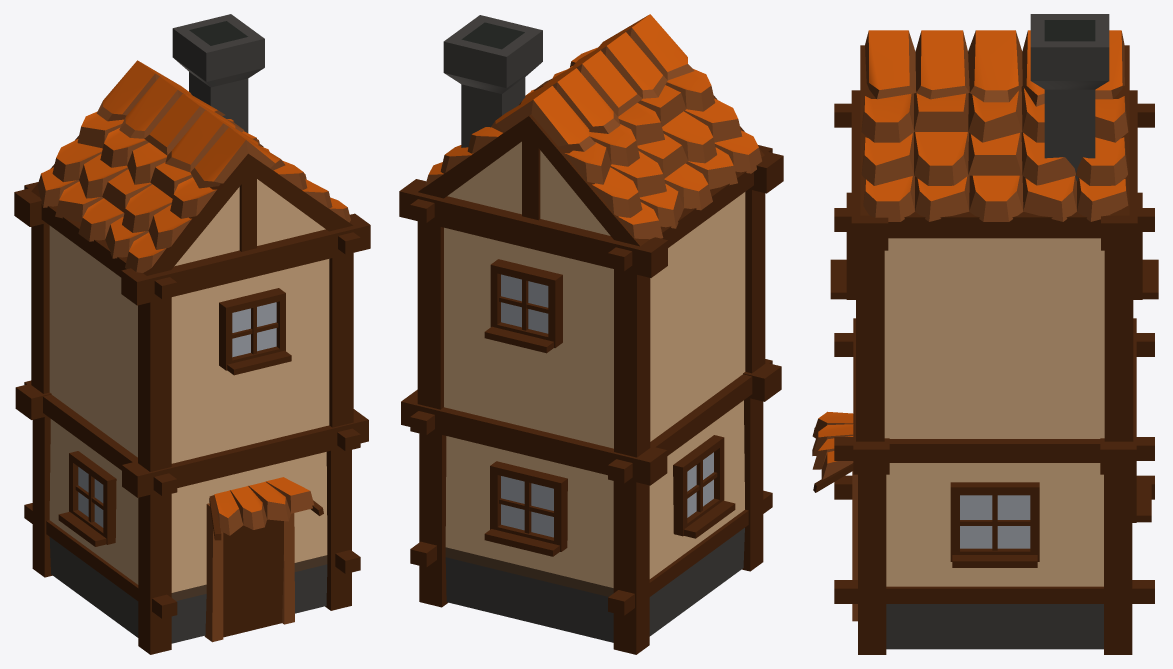
Rendered from SM_House_T2.fbx.
The picture shows the model from 3 angles, left to right: view 1: azimuth 30°, elevation 25°; view 2: azimuth 150°, elevation 25°; view 3: azimuth 270°, elevation 25°; orthographic projection. The views are drawn at different scales.
Visible parts, largest first — view 1: SM_House_T2; view 2: SM_House_T2; view 3: SM_House_T2.
Boxes of the visible parts, x1=… form: SM_House_T2: x1=14, y1=14, x2=370, y2=654; SM_House_T2: x1=399, y1=14, x2=783, y2=654; SM_House_T2: x1=812, y1=14, x2=1158, y2=654.
Size of the model in its own units: 64.25 by 136 by 70.8.
